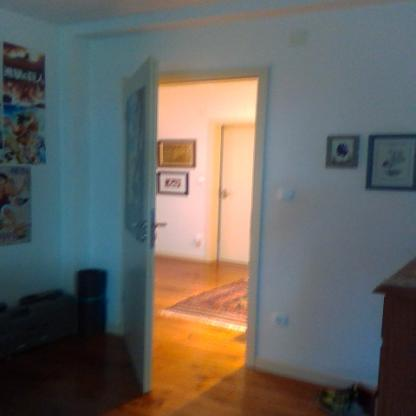semi: (110, 45, 286, 401)
